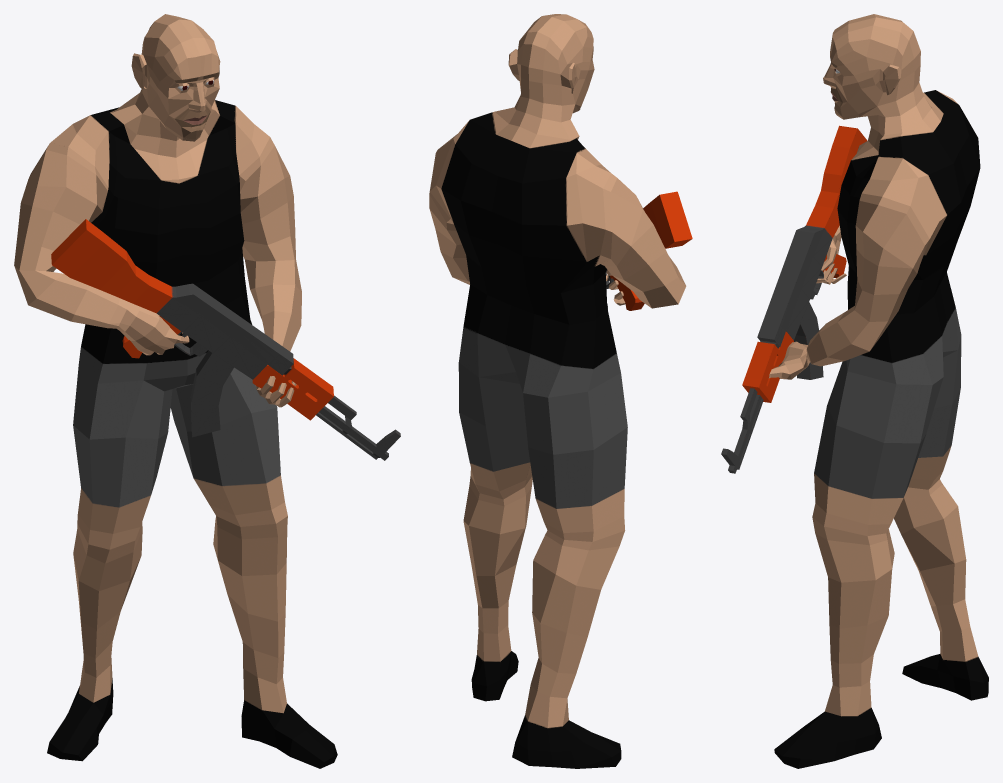
Rendered from PlayerIdle(2).obj.
3 renders of one model, left to right at view 1: azimuth 30°, elevation 25°; view 2: azimuth 150°, elevation 25°; view 3: azimuth 270°, elevation 25°, orthographic. The views are drawn at different scales.
Parts seen in each view (by area): view 1: Plane002, Object001; view 2: Plane002, Object001; view 3: Plane002, Object001.
Part boxes in pixels (box(x1,y1,x2,y2)): Plane002: box(14, 14, 337, 768); Object001: box(51, 219, 400, 460); Plane002: box(429, 14, 686, 768); Object001: box(605, 191, 692, 310); Plane002: box(769, 14, 988, 768); Object001: box(721, 125, 867, 473).
Size of the model in its own units: 744 by 1806 by 629.
